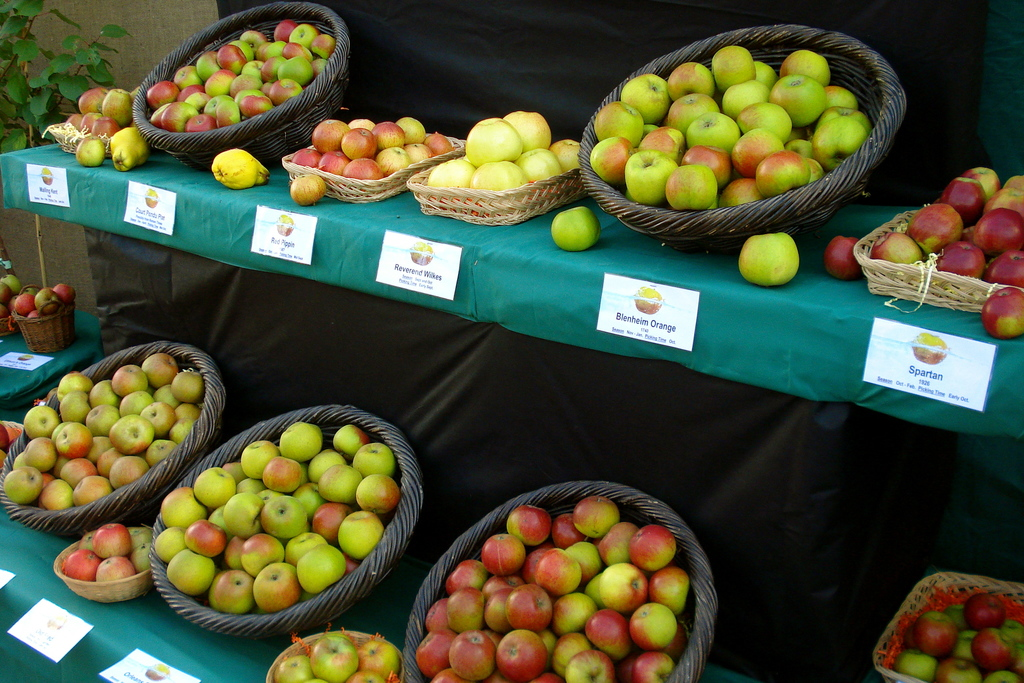Apple: (410, 493, 691, 682), (154, 420, 401, 610), (609, 65, 849, 208), (0, 350, 203, 510), (145, 17, 333, 129), (869, 164, 1023, 285), (426, 106, 578, 192), (291, 115, 451, 196), (890, 595, 1023, 682), (272, 630, 401, 682), (65, 84, 140, 167), (60, 522, 149, 581), (737, 230, 798, 285), (977, 288, 1023, 338), (552, 205, 599, 250), (822, 234, 859, 280), (912, 332, 949, 366), (291, 173, 327, 206), (634, 286, 661, 312), (410, 240, 434, 266), (35, 290, 60, 313), (272, 212, 295, 236), (53, 285, 76, 307), (0, 272, 21, 292), (11, 296, 32, 315), (145, 660, 166, 677), (0, 280, 12, 304), (144, 187, 157, 206), (42, 167, 53, 186), (7, 294, 18, 312), (0, 423, 8, 447), (26, 306, 40, 319), (0, 449, 8, 470), (0, 301, 7, 317), (23, 287, 35, 294), (35, 285, 51, 290)
